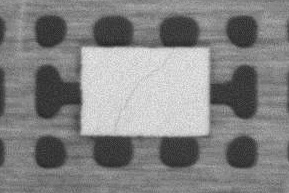DIE_CRACK: (115, 48, 175, 129)
